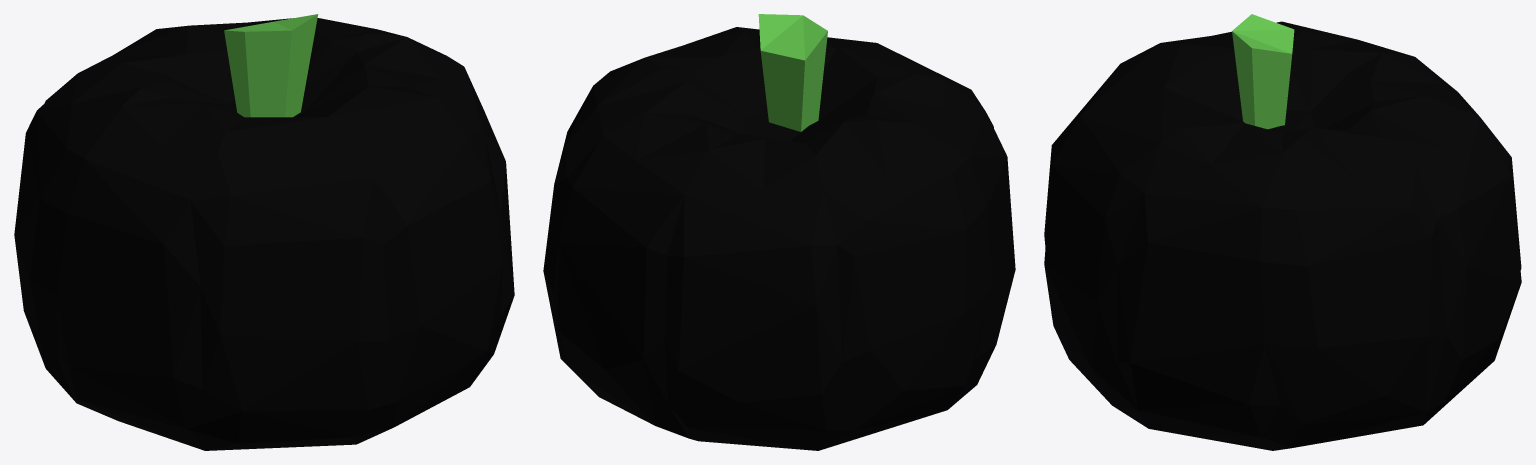
The model's file is Pumpkin_S_Collected.fbx.
3 renders of one model, left to right at view 1: azimuth 30°, elevation 25°; view 2: azimuth 150°, elevation 25°; view 3: azimuth 270°, elevation 25°, orthographic. The views are drawn at different scales.
Visible parts, largest first — view 1: Pumpkin_S_Colected; view 2: Pumpkin_S_Colected; view 3: Pumpkin_S_Colected.
Part boxes in pixels (x1,y1,x2,y2): Pumpkin_S_Colected: (14,14,514,450); Pumpkin_S_Colected: (543,14,1015,450); Pumpkin_S_Colected: (1044,14,1521,450).
Bounding box in the file's own units: 25.31 × 21.06 × 25.45.
